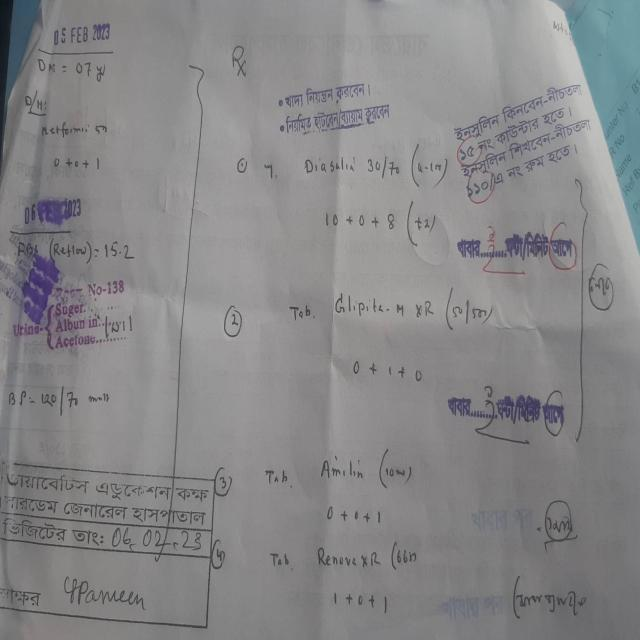Amilin: (318, 453, 368, 489)
Diasulin: (300, 153, 361, 180)
Glipita M XR: (330, 288, 436, 328)
Renova XR: (308, 540, 384, 575)
